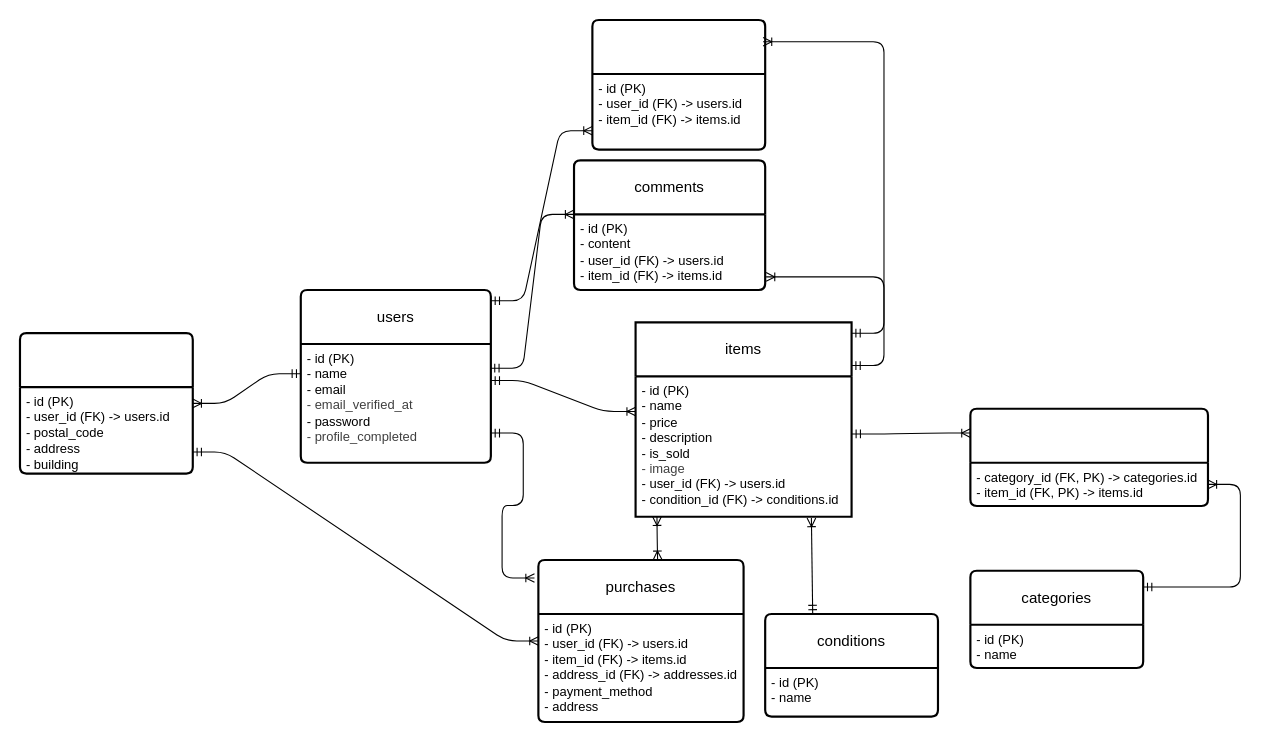
The diagram is 1269 pixels wide and 741 high, and some of its shapes have lost their labels. The shapes that lost their labels are listed below. From the top down, each one's box as (x1, y1, x2, y2) in pixels, then its label:
(591, 18, 766, 150): likes
(18, 332, 193, 474): addresses
(969, 407, 1209, 507): category_item
